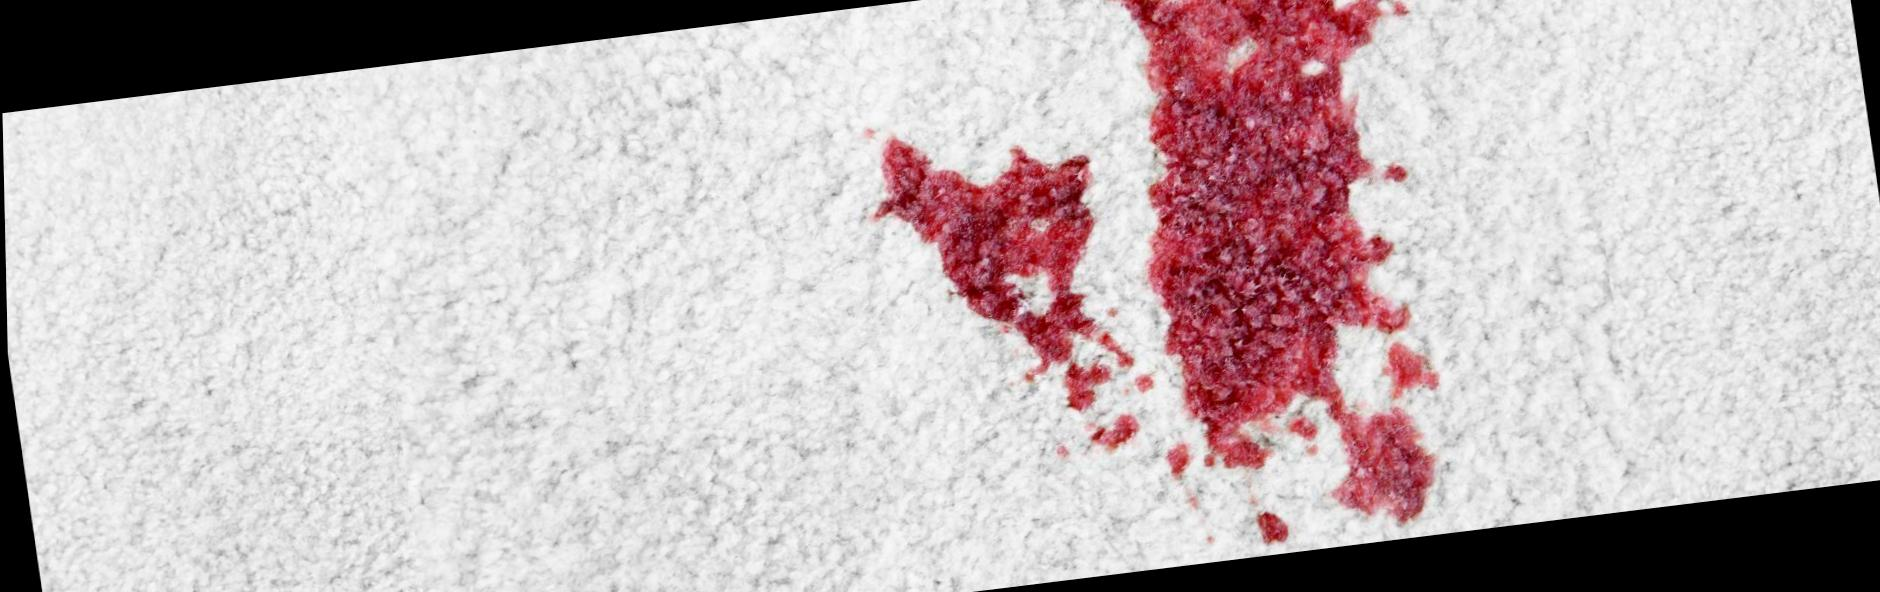Fire: (1108, 0, 1434, 527), (869, 135, 1133, 413), (1380, 343, 1439, 400), (1087, 415, 1139, 453), (1163, 442, 1191, 483), (1285, 416, 1315, 443), (1381, 162, 1409, 183)
